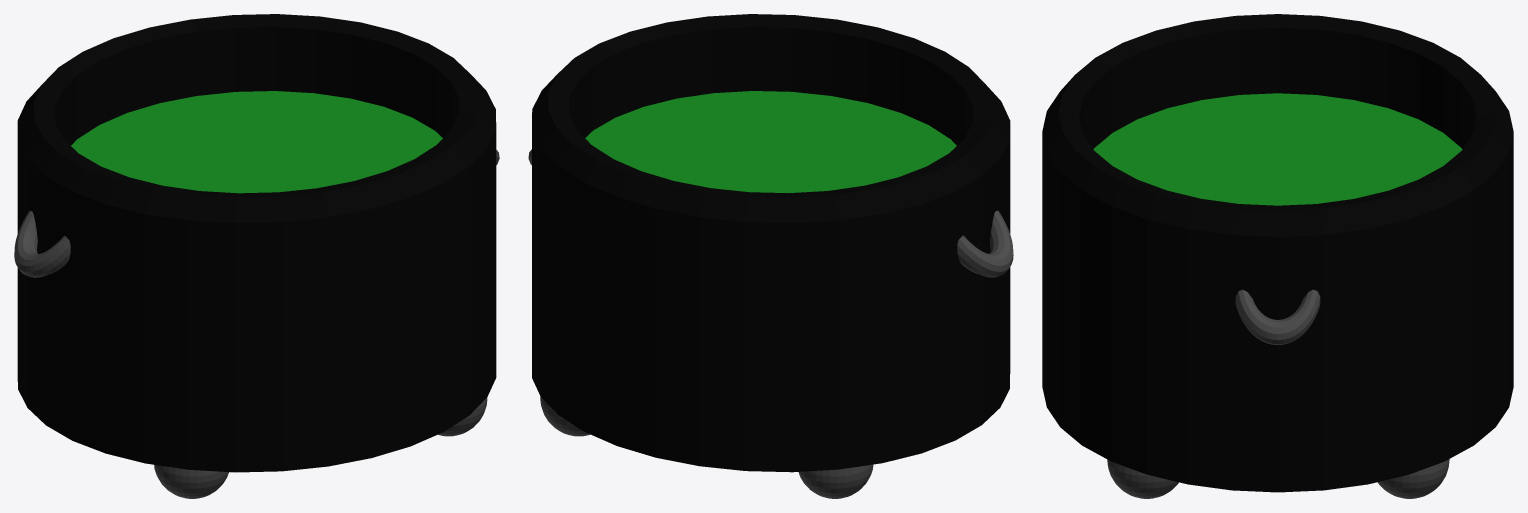
Rendered from Cauldron.fbx.
3 views of the same model, side by side, from view 1: azimuth 30°, elevation 25°; view 2: azimuth 150°, elevation 25°; view 3: azimuth 270°, elevation 25° (orthographic). The views are drawn at different scales.
Visible parts, largest first — view 1: Cauldron, Ring.001, Leg, Leg.001; view 2: Cauldron, Ring.001, Leg.003, Leg.002; view 3: Cauldron, Ring, Leg.002, Leg.001.
Part boxes in pixels (x1,y1,x2,y2): Cauldron: (17,14,496,472); Ring.001: (14,210,70,277); Leg: (154,464,228,498); Leg.001: (438,397,487,436); Cauldron: (532,14,1010,472); Ring.001: (957,210,1013,277); Leg.003: (798,464,873,498); Leg.002: (540,396,590,436); Cauldron: (1042,14,1513,492); Ring: (1235,289,1320,345); Leg.002: (1377,459,1449,498); Leg.001: (1107,459,1178,498).
Size of the model in its own units: 398 by 250 by 334.
